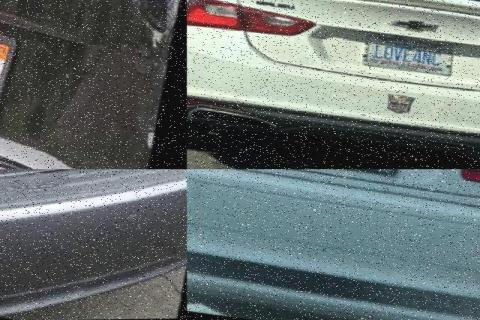LicensePlate: (0, 8, 70, 121), (287, 169, 409, 205), (354, 34, 448, 76)
